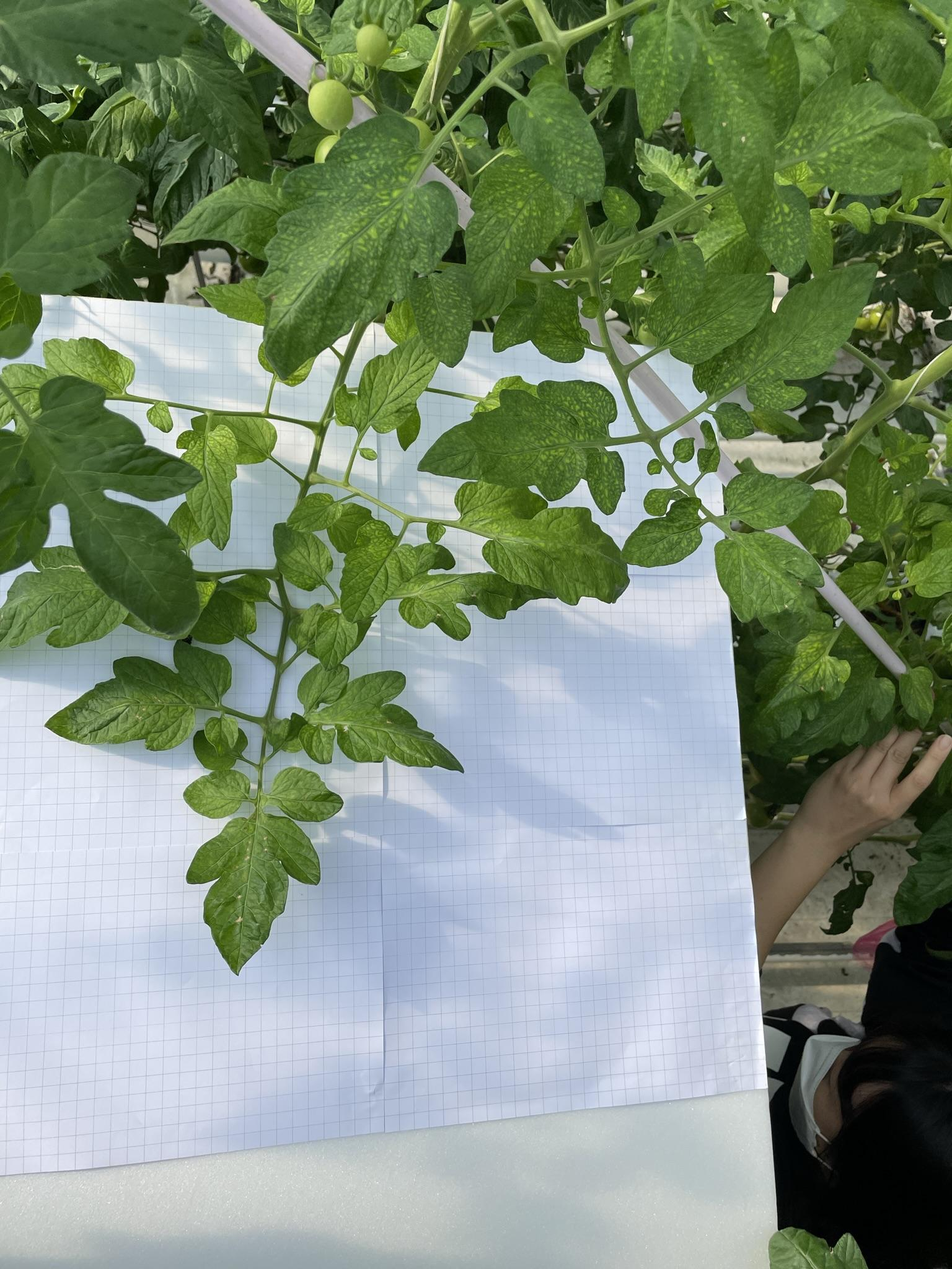Healthy: (0, 374, 203, 636), (0, 144, 145, 295), (0, 0, 206, 100), (125, 41, 274, 178)
Iron Deficiency: (257, 113, 458, 380), (182, 766, 345, 977), (691, 261, 879, 413), (418, 380, 626, 516), (43, 640, 239, 759), (454, 480, 631, 605), (787, 61, 950, 196), (679, 21, 778, 241), (297, 662, 465, 775), (464, 156, 575, 309), (0, 544, 128, 649), (0, 336, 135, 435), (713, 531, 826, 644), (743, 632, 852, 749), (506, 82, 607, 204), (646, 271, 775, 364), (785, 652, 896, 755), (397, 571, 557, 642), (333, 334, 441, 435), (627, 10, 698, 140), (339, 519, 418, 623), (176, 425, 238, 551), (409, 268, 474, 368), (621, 497, 703, 568), (846, 442, 904, 542), (724, 471, 816, 530), (757, 183, 812, 279), (191, 413, 277, 466), (787, 488, 852, 557), (273, 521, 334, 592), (659, 241, 706, 317), (834, 560, 890, 611), (316, 609, 358, 672), (904, 546, 952, 599), (896, 666, 934, 729), (286, 491, 342, 533), (601, 185, 641, 231), (714, 401, 756, 440), (609, 258, 643, 302), (696, 418, 722, 475)
Leaf_Miner: (35, 548, 87, 577)
